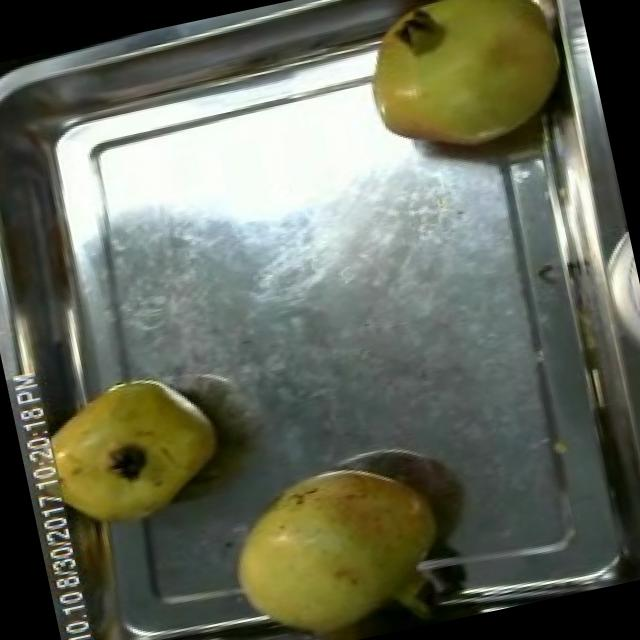fruit: (203, 437, 469, 640), (334, 0, 590, 180), (18, 355, 235, 549)
